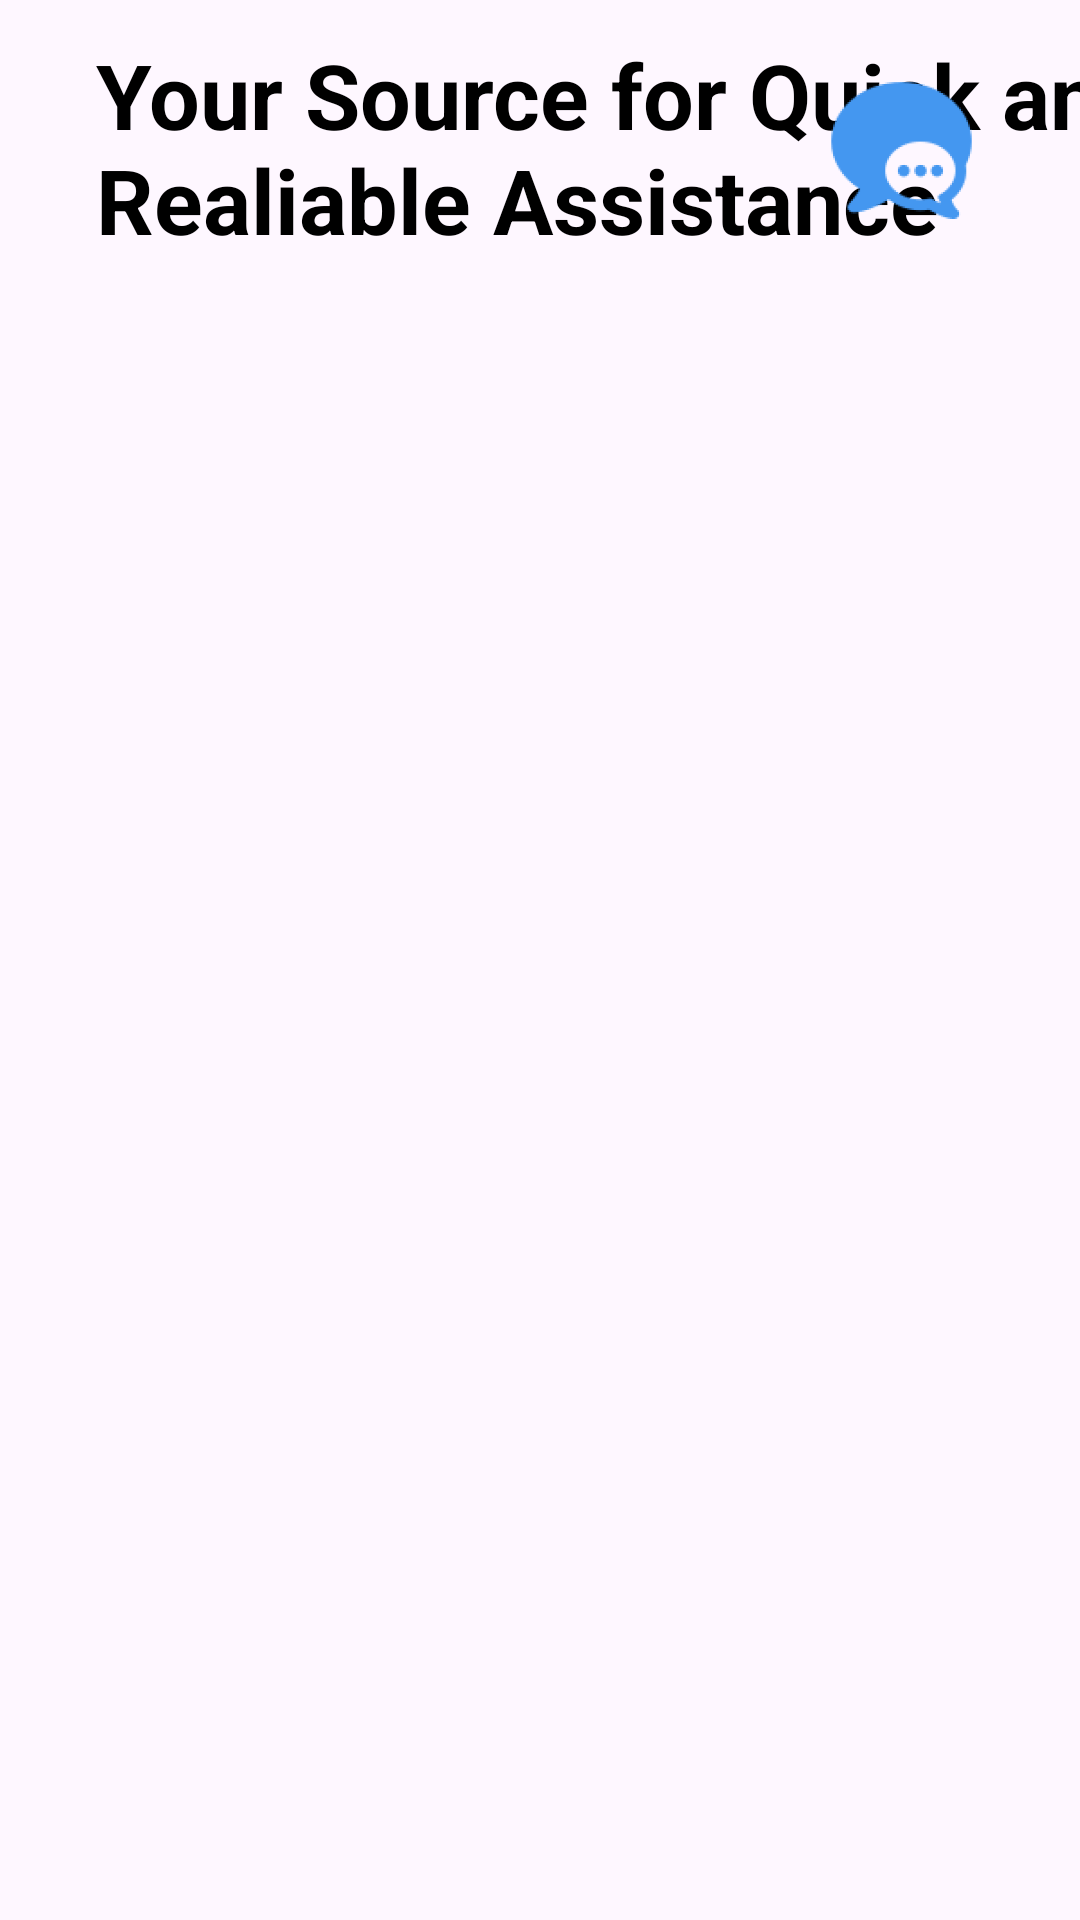

Icon bounding boxes for this 1080w x 1920h phone screenshot, format (x1, y1, x2, y2):
messages: (819, 66, 981, 228)
